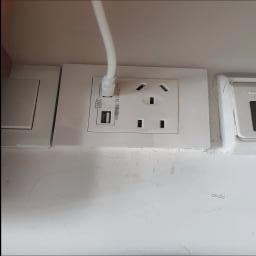outlet: (48, 54, 218, 156)
